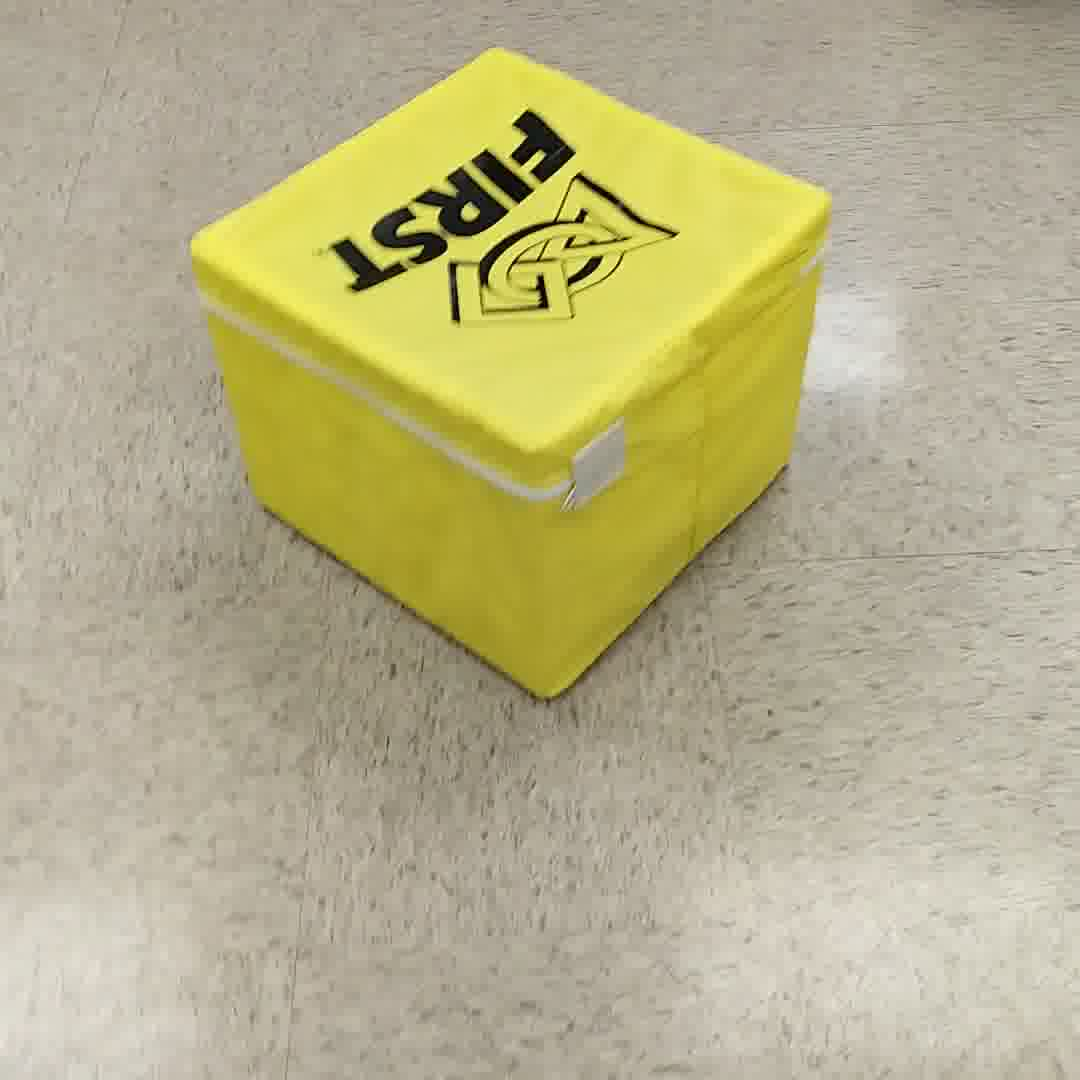box: (184, 52, 844, 701)
